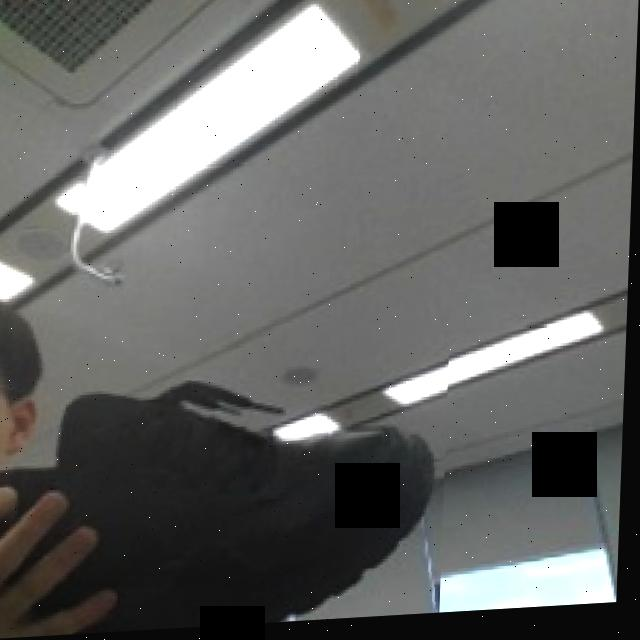shoe: (0, 326, 453, 640)
